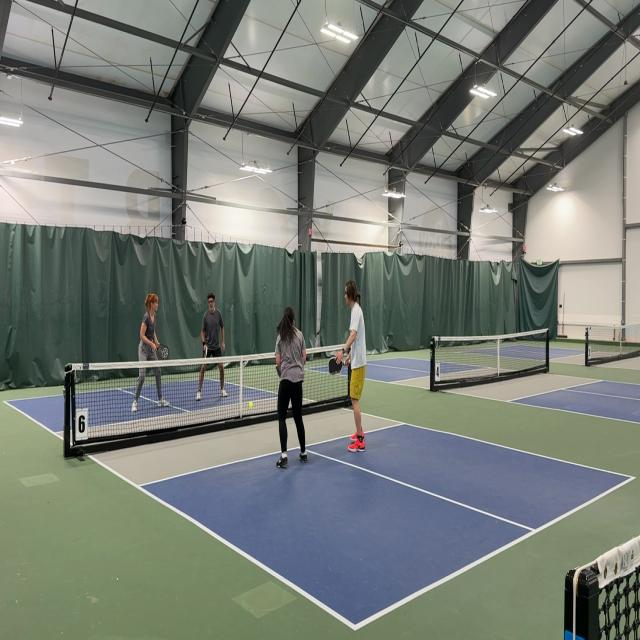ball: (248, 400, 254, 409)
